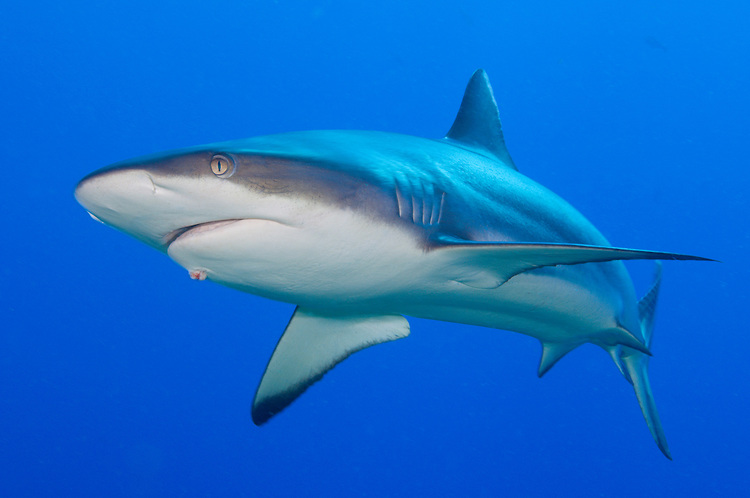Carcharhinus_amblyrhynchos: (60, 61, 720, 474)
